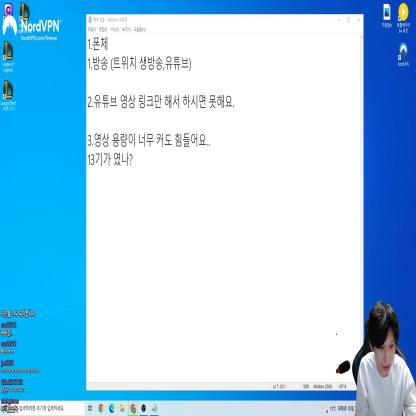streamer: (355, 301, 416, 416)
